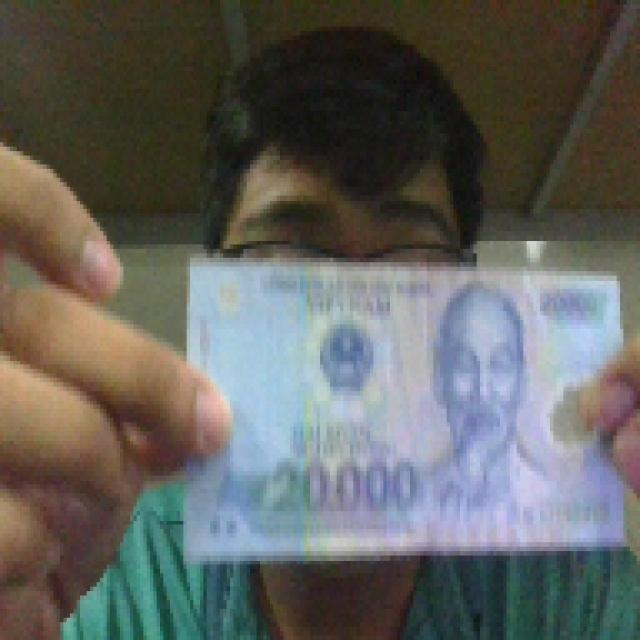20 000 VND: (177, 249, 633, 569)
